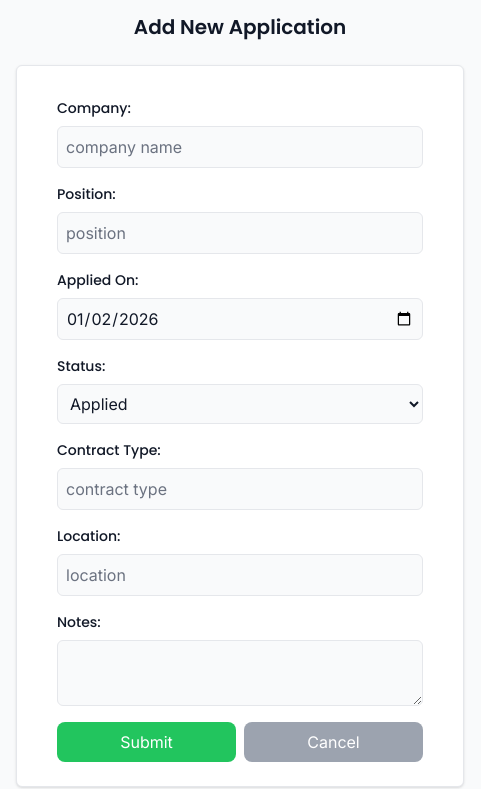
Scenario: JobForm › when creating a new application › submits form with correct data
Step 1. Type "Google" into the field labelled "Company:" → (240, 147), box [57,126,423,168]
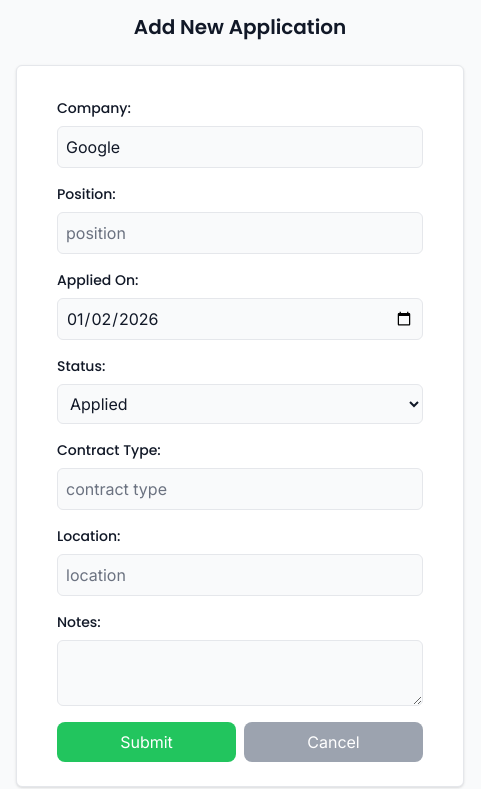
Step 2. Type "Frontend Developer" into the field labelled "Position:" → (240, 233), box [57,212,423,254]
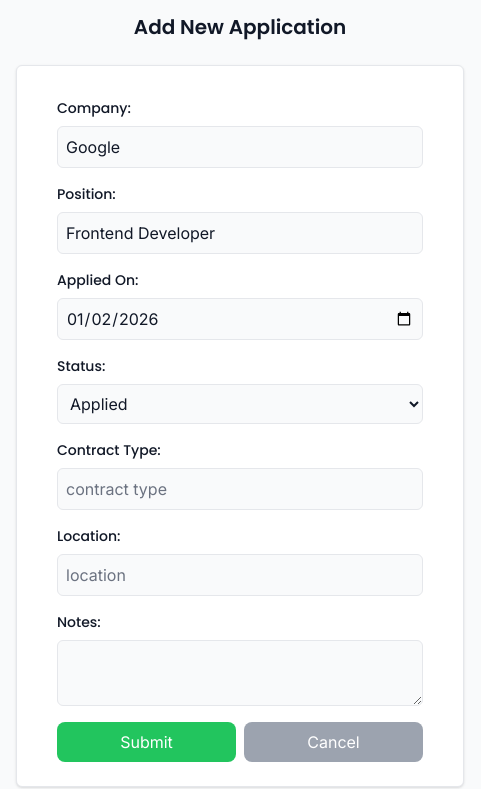
Step 3. Select "Applied" in the dropdown labelled "Status:" → (240, 404), box [57,384,423,424]
Step 4. Click the button "Submit" → (146, 742), box [57,722,236,762]
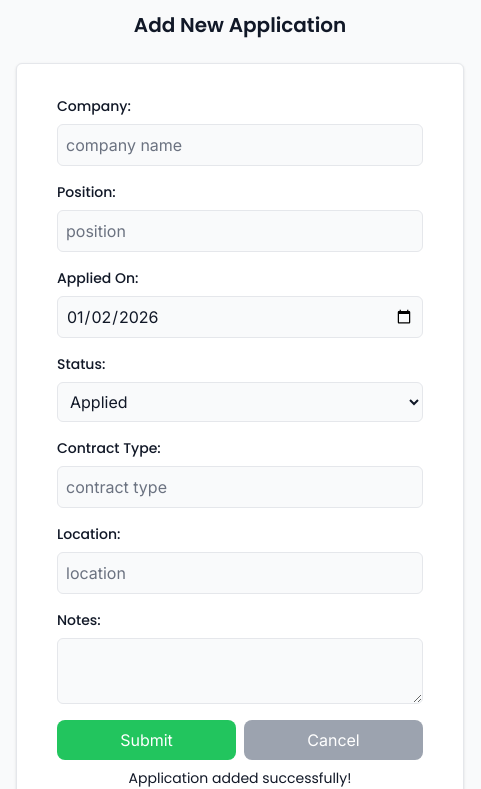
Check: the text "Application added successfully!" is shown, box [129,768,351,788]
